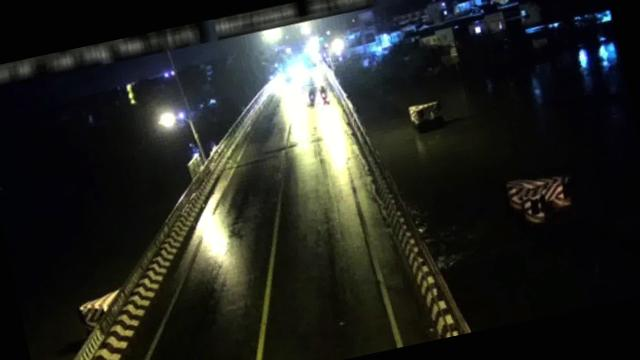Bike: (304, 84, 321, 108), (318, 83, 329, 102)
